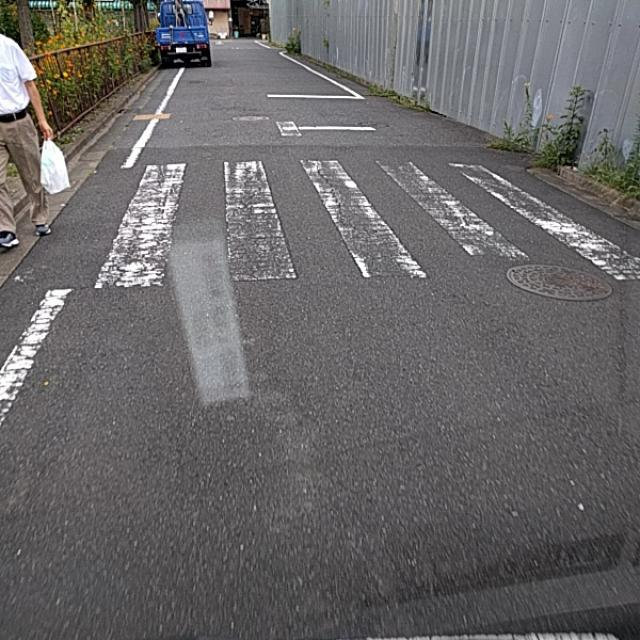pothole: (102, 236, 155, 294)
